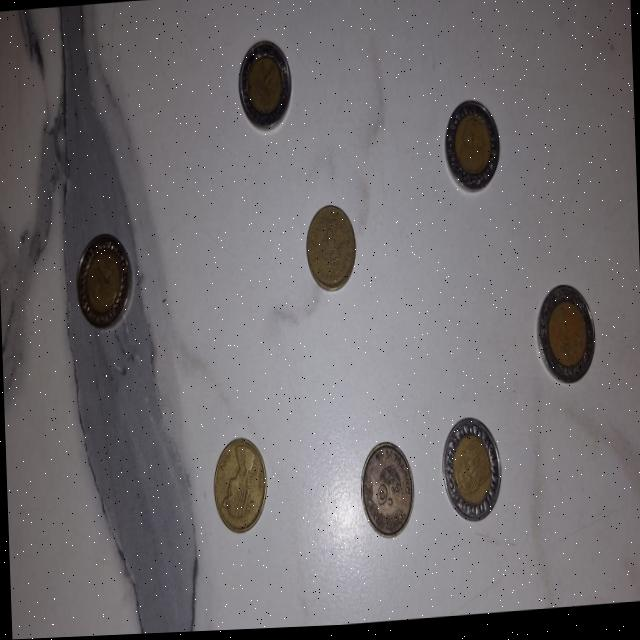Half Pound: (207, 433, 276, 545), (297, 195, 363, 304), (357, 436, 421, 546)
One Pound: (436, 398, 508, 548), (528, 279, 605, 397), (69, 229, 139, 342), (436, 95, 505, 198), (230, 39, 298, 143)
